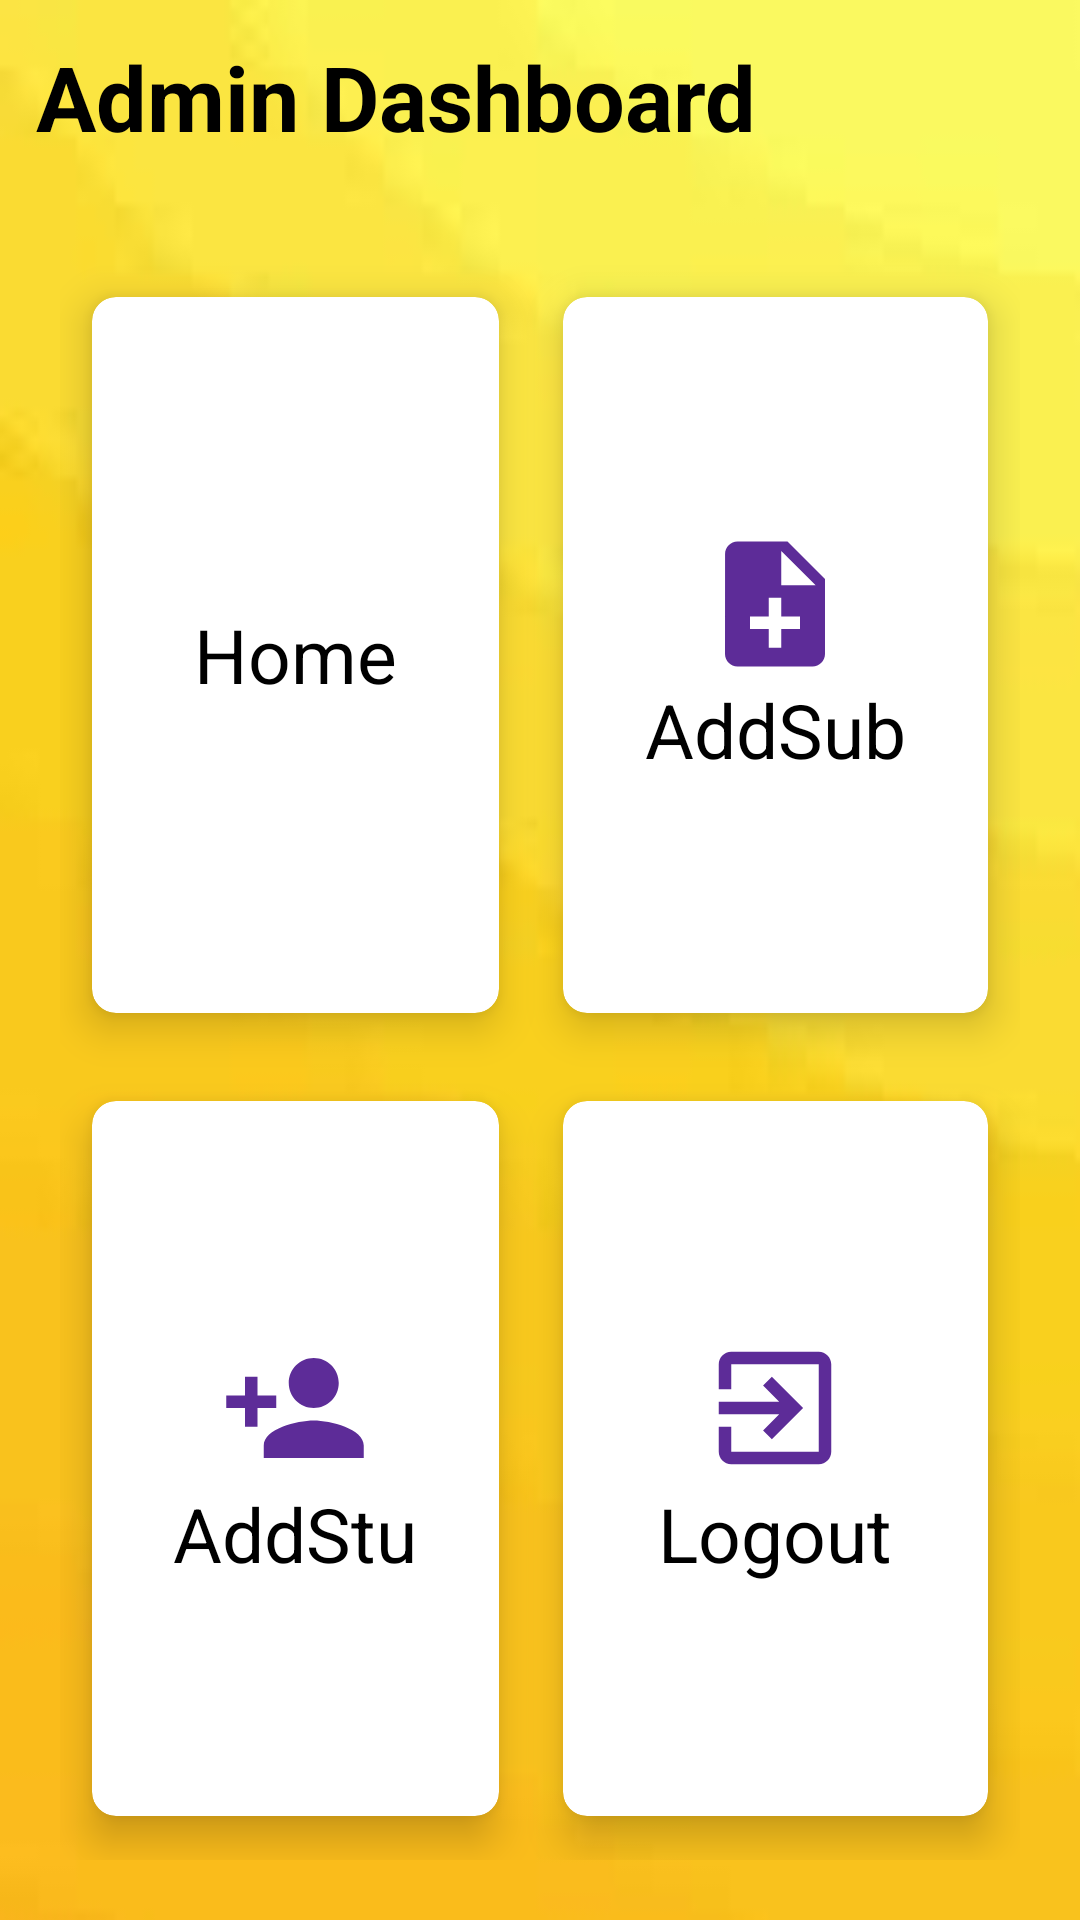

Screen size 1080px×1920px. Icon name, then its box in pixels as box=[x1, y1, x2, y2]:
note add: box=[725, 541, 825, 667]
person add: box=[226, 1358, 364, 1458]
